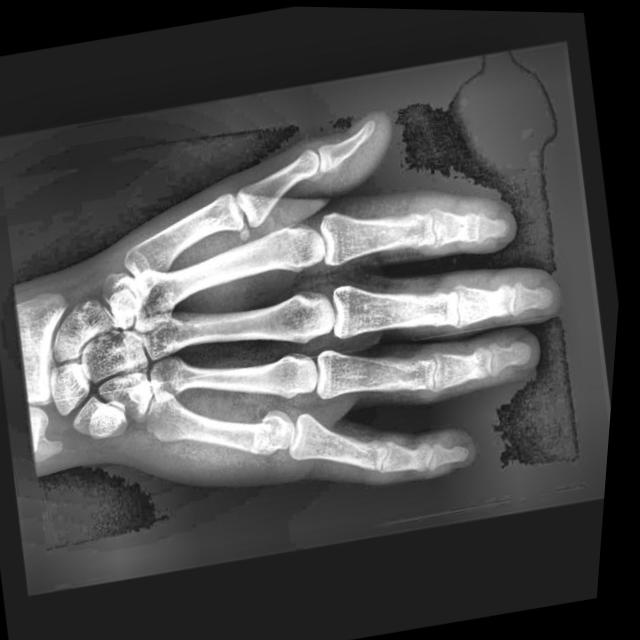fracture: (259, 412, 286, 453)
